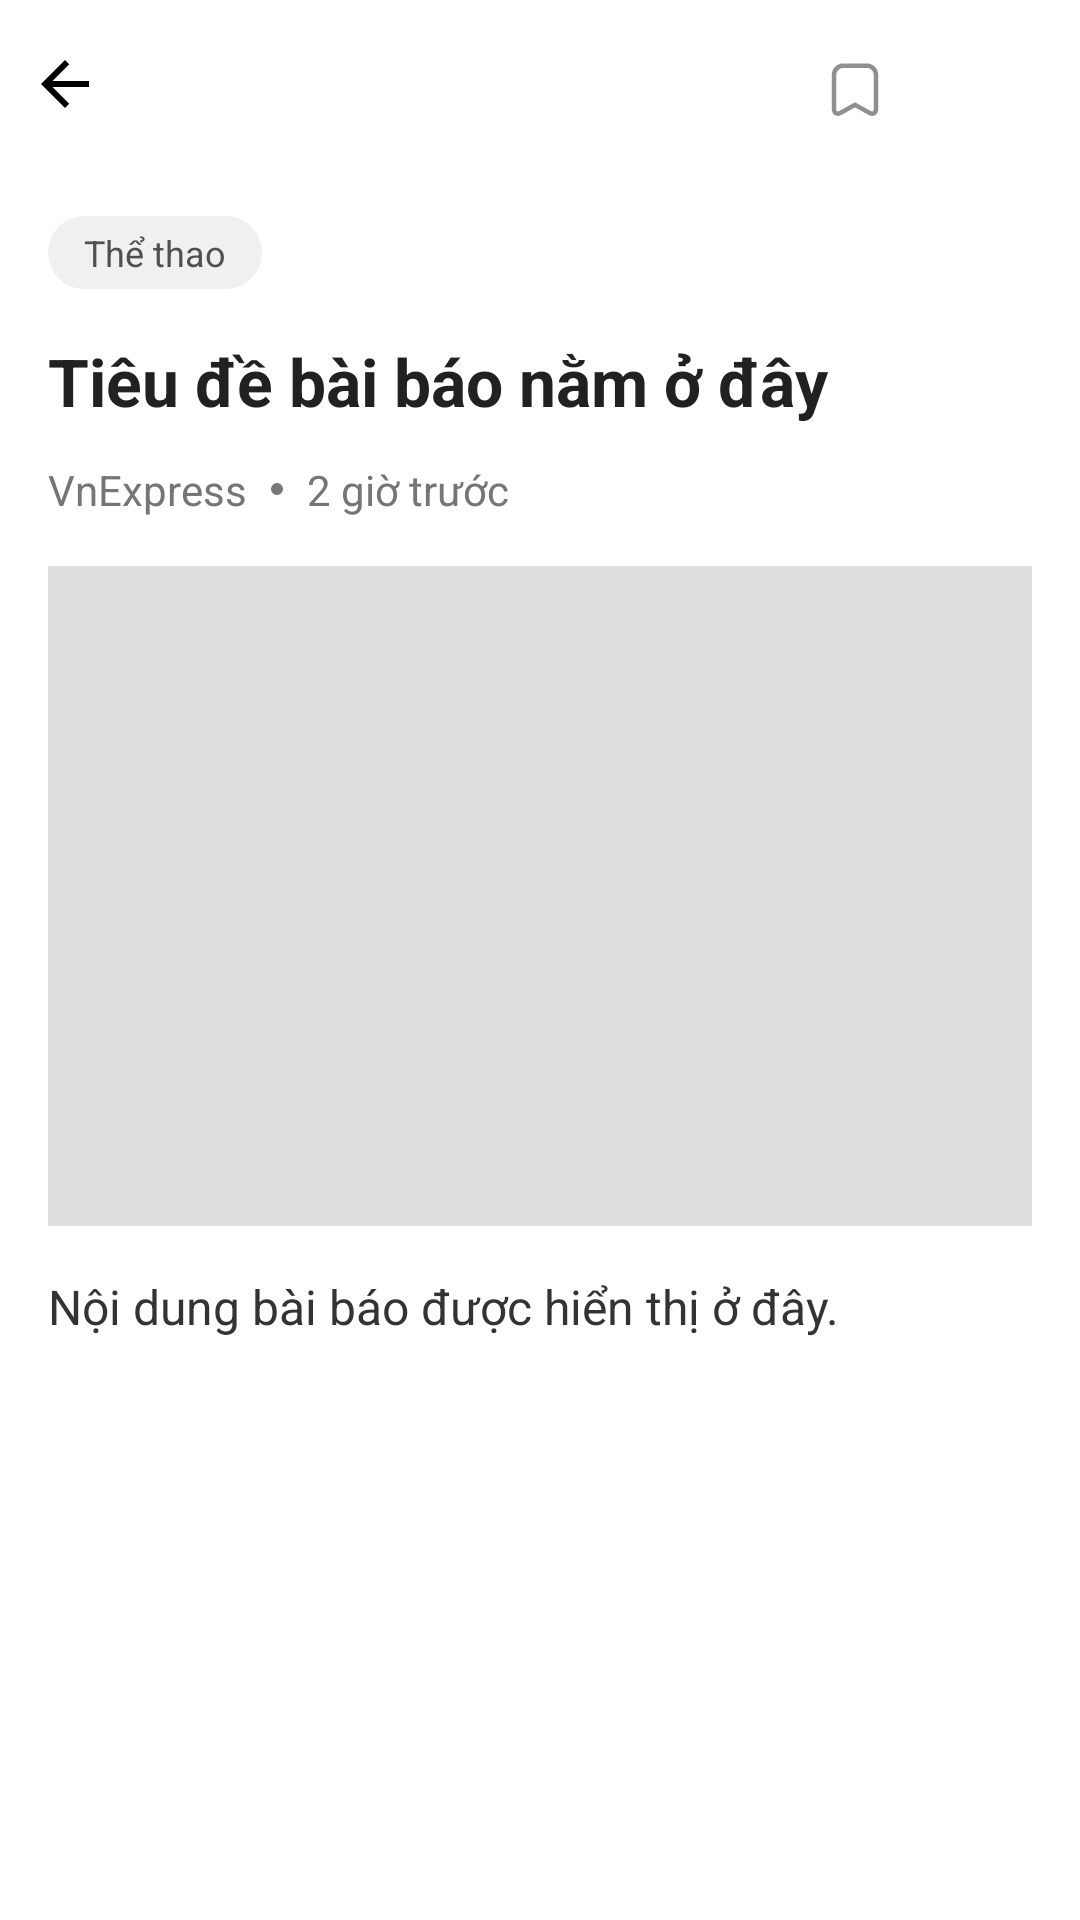

Where icons sit on this 1080px×1920px app screen, as BBox(x1, y1, x2, y2):
Back: BBox(41, 60, 89, 108)
Bookmark: BBox(831, 63, 879, 116)
